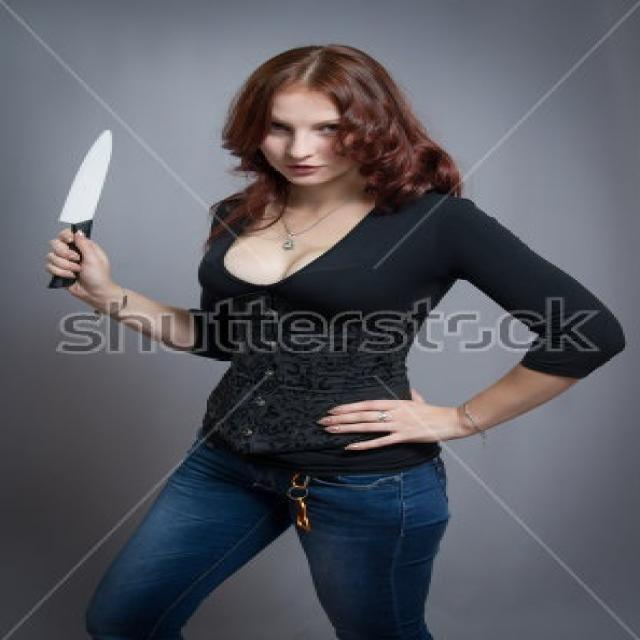knife: (44, 119, 117, 293)
